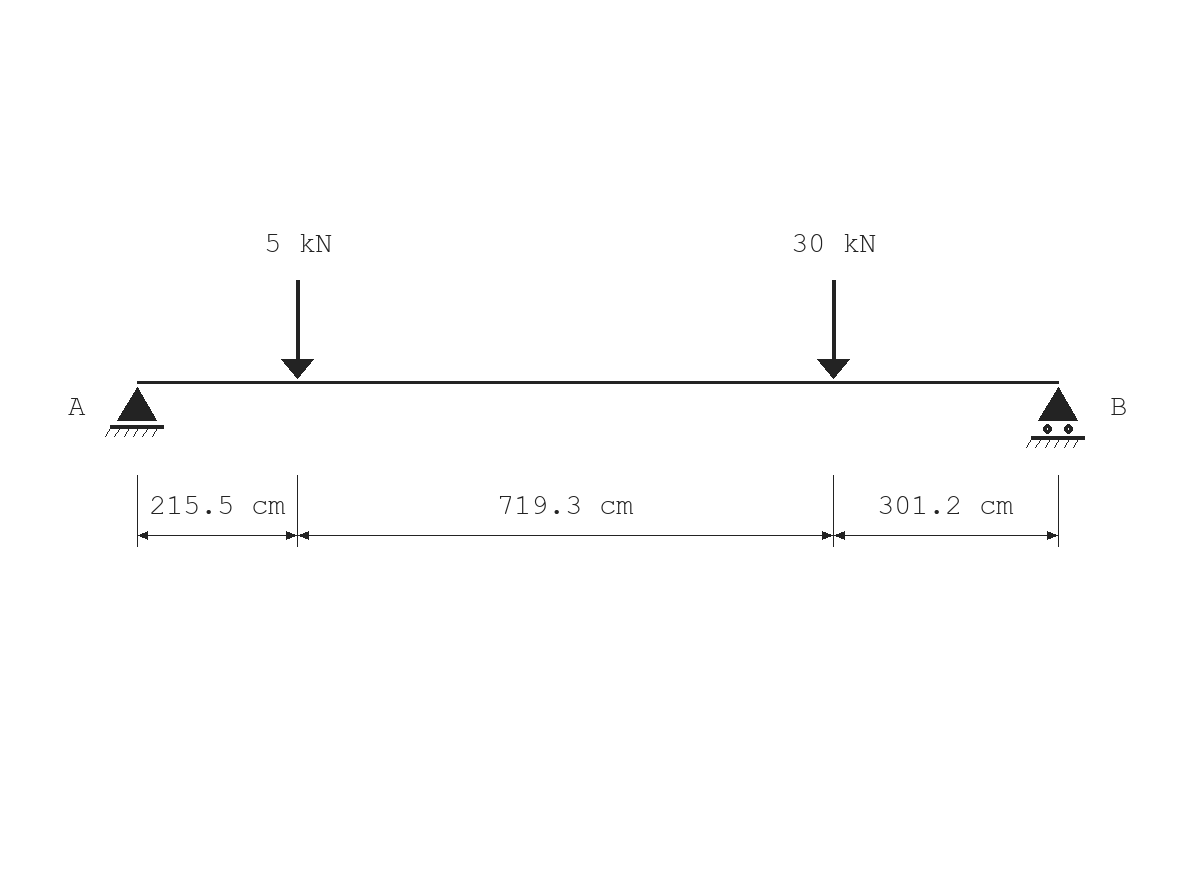pin_support: (105, 387, 164, 437)
point_load: (281, 280, 314, 379), (817, 280, 850, 379)
roller_support: (1026, 387, 1085, 448)
